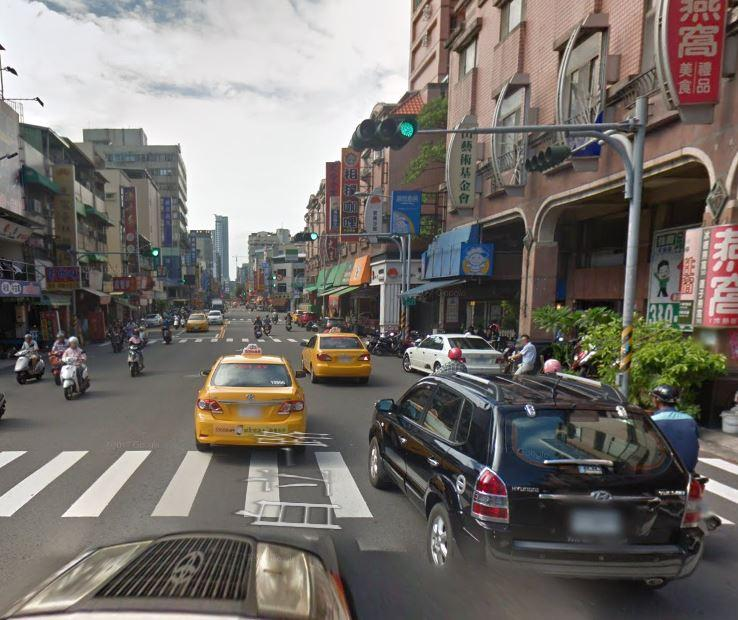car: (372, 365, 723, 588), (186, 336, 309, 456), (403, 326, 508, 391), (298, 316, 376, 386), (186, 303, 212, 331)
green_traffic_light: (349, 116, 418, 148), (291, 230, 317, 243), (136, 245, 159, 256)
motorcycle: (58, 354, 92, 400), (10, 347, 46, 383), (125, 341, 147, 376)
